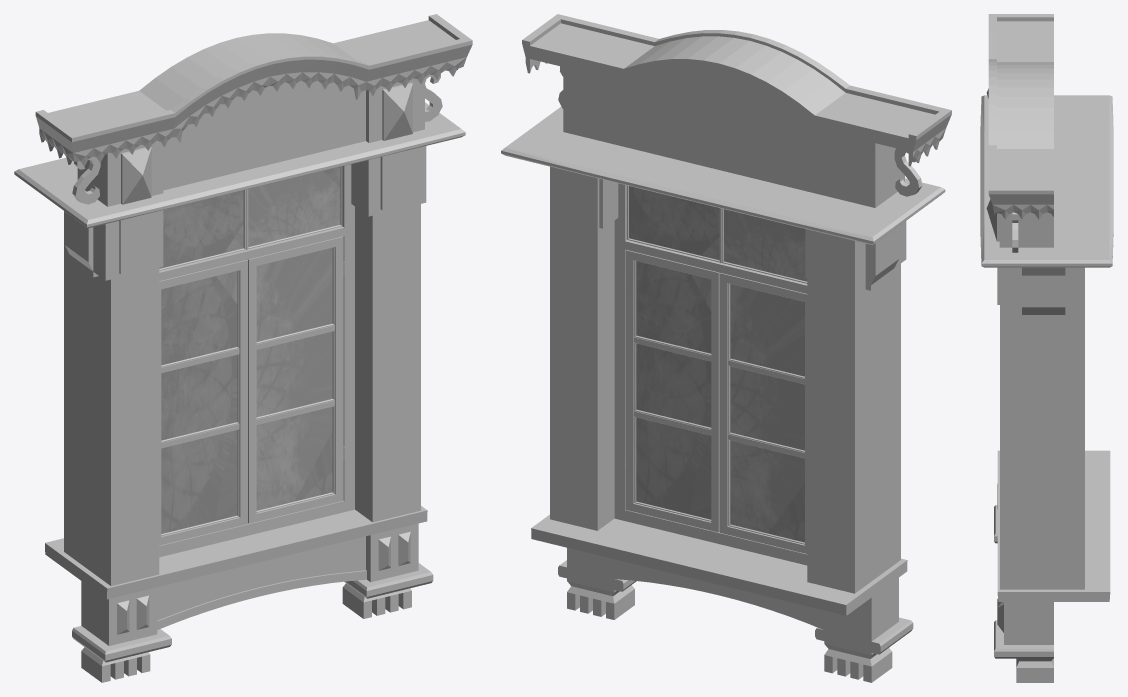
File: Window.FBX
The picture shows the model from 3 angles, left to right: view 1: azimuth 30°, elevation 25°; view 2: azimuth 150°, elevation 25°; view 3: azimuth 270°, elevation 25°; orthographic projection. The views are drawn at different scales.
Visible parts, largest first — view 1: LP Cage, Window Outside Right, Window Outside Left; view 2: LP Cage, Window Inside Left, Window Inside Right; view 3: LP Cage.
Boxes of the visible parts, x1,y1,x2,y2 form: LP Cage: (14, 14, 472, 682); Window Outside Right: (248, 236, 344, 523); Window Outside Left: (159, 260, 247, 545); LP Cage: (501, 14, 951, 682); Window Inside Left: (624, 250, 719, 532); Window Inside Right: (719, 273, 807, 553); LP Cage: (980, 14, 1113, 682).
Size of the model in its own units: 150 by 213 by 47.96.
